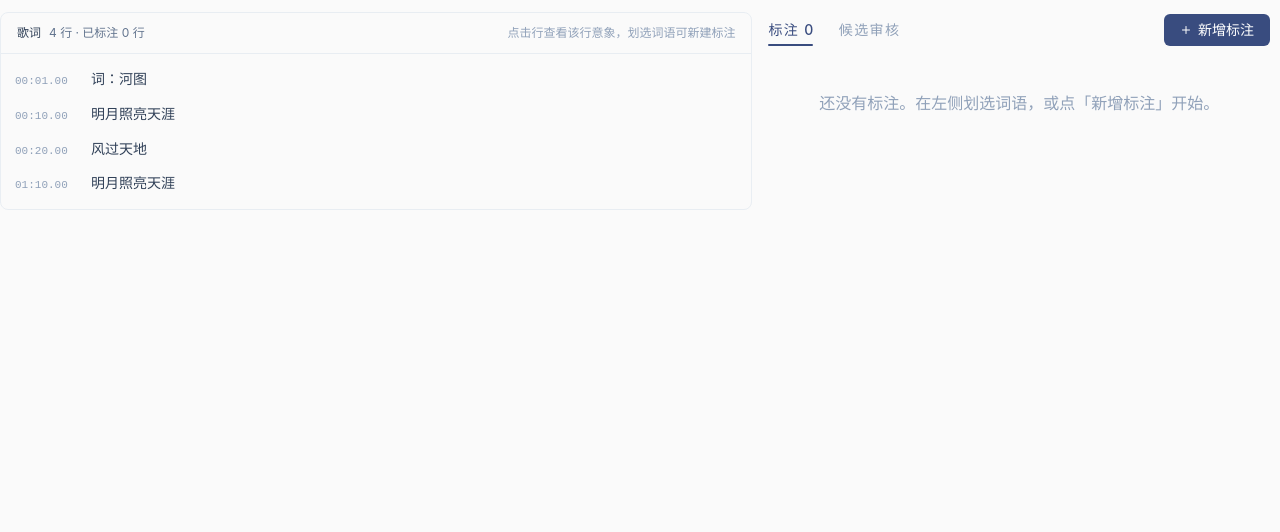
SongAnnotationWorkbench › 新增标注：默认选登记的默认母题，下拉框只列登记的母题，「其他母题…」展开全部
Click the button "新增标注" at (1217, 30), box top-left (1164, 14), bottom-right (1270, 46)
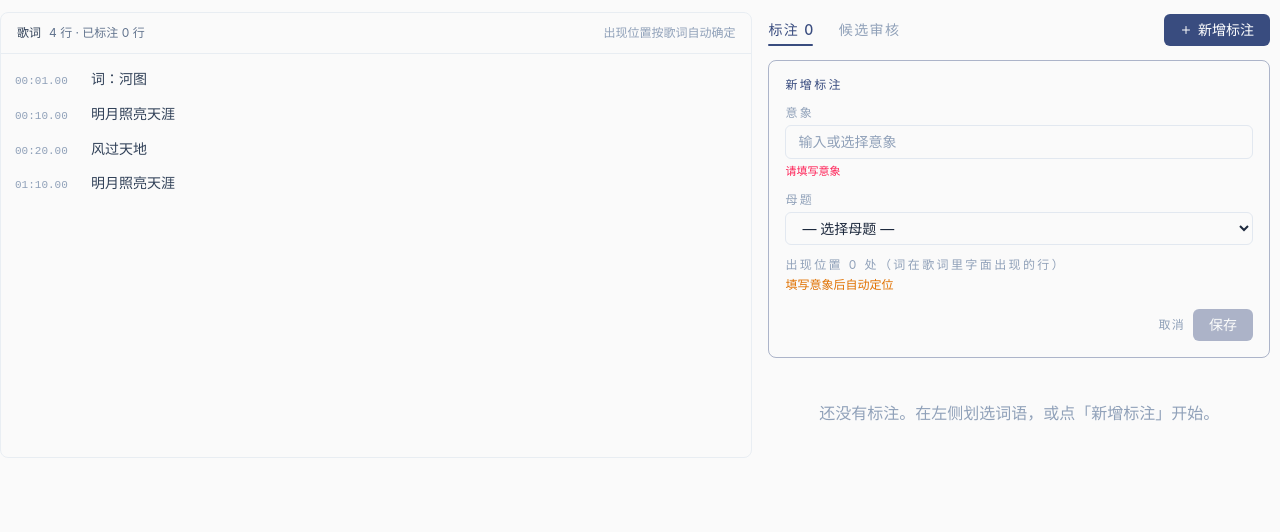
Type "天涯" into the field with placeholder "输入或选择意象" at (1019, 142), box top-left (785, 125), bottom-right (1253, 159)
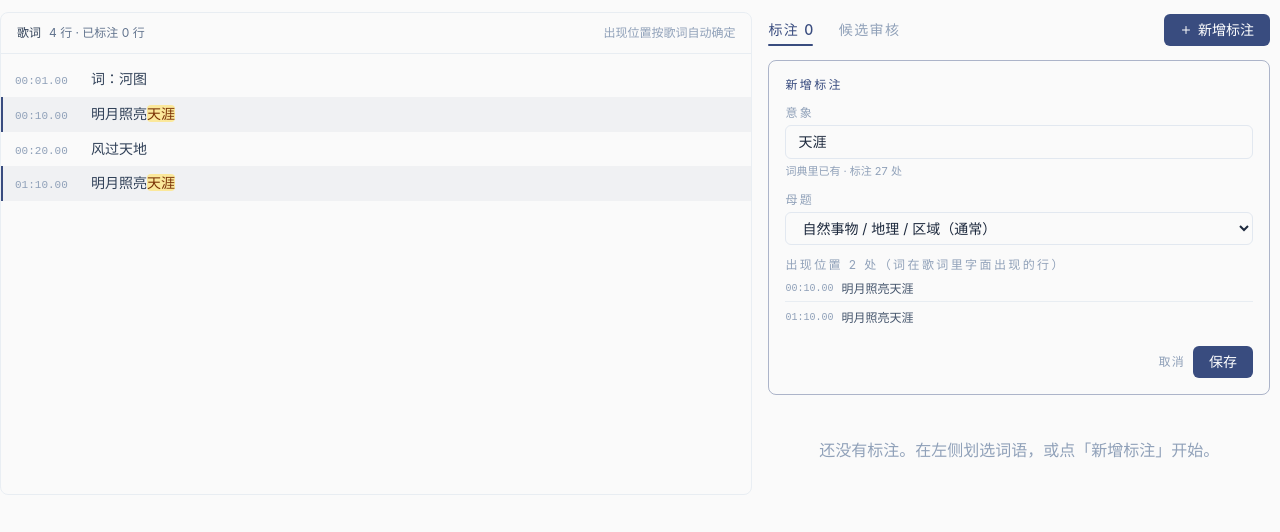
Now the dropdown labelled "母题" shows "自然事物 / 地理 / 区域（通常）"
Select "其他母题…" in the dropdown labelled "母题" at (1019, 228), box top-left (785, 212), bottom-right (1253, 244)
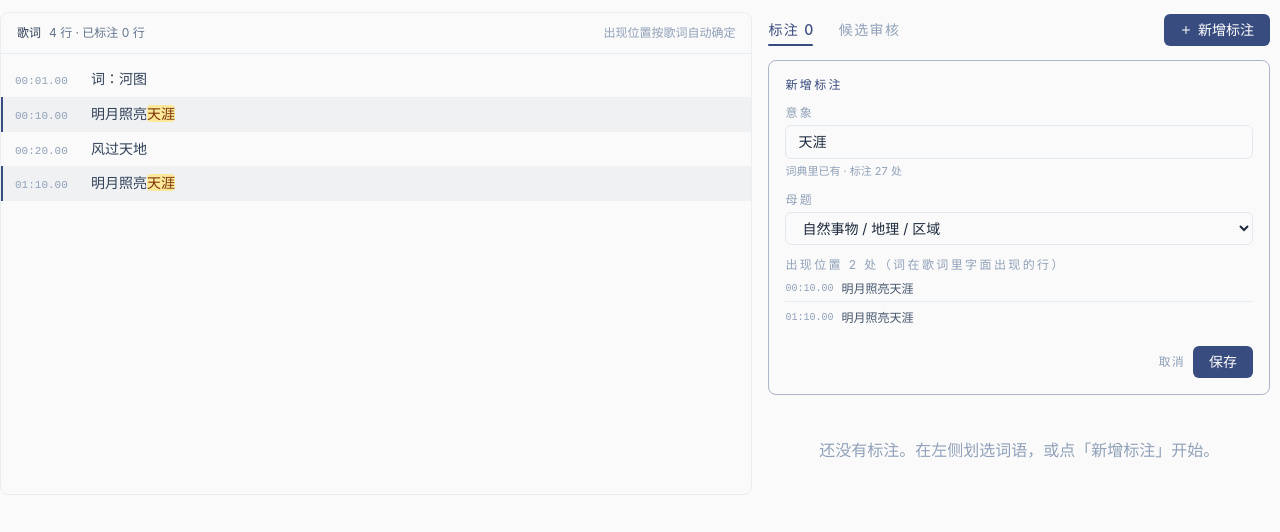
Select "自然事物 / 天象 / 星相" in the dropdown labelled "母题" at (1019, 228), box top-left (785, 212), bottom-right (1253, 244)
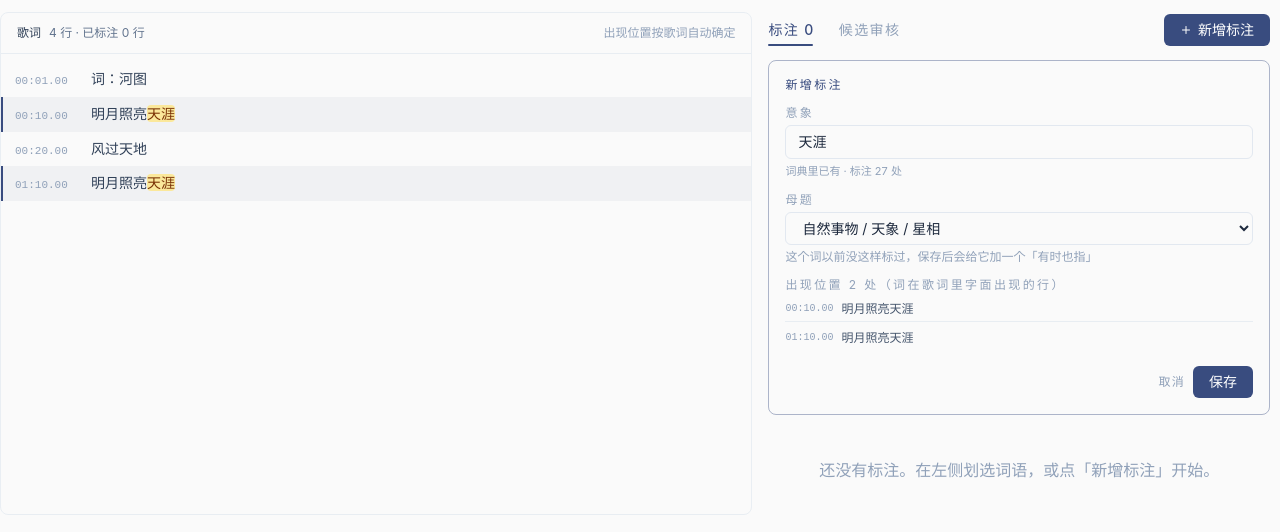
Now the text "这个词以前没这样标过，保存后会给它加一个「有时也指」" is shown, box top-left (785, 248), bottom-right (1097, 264)
